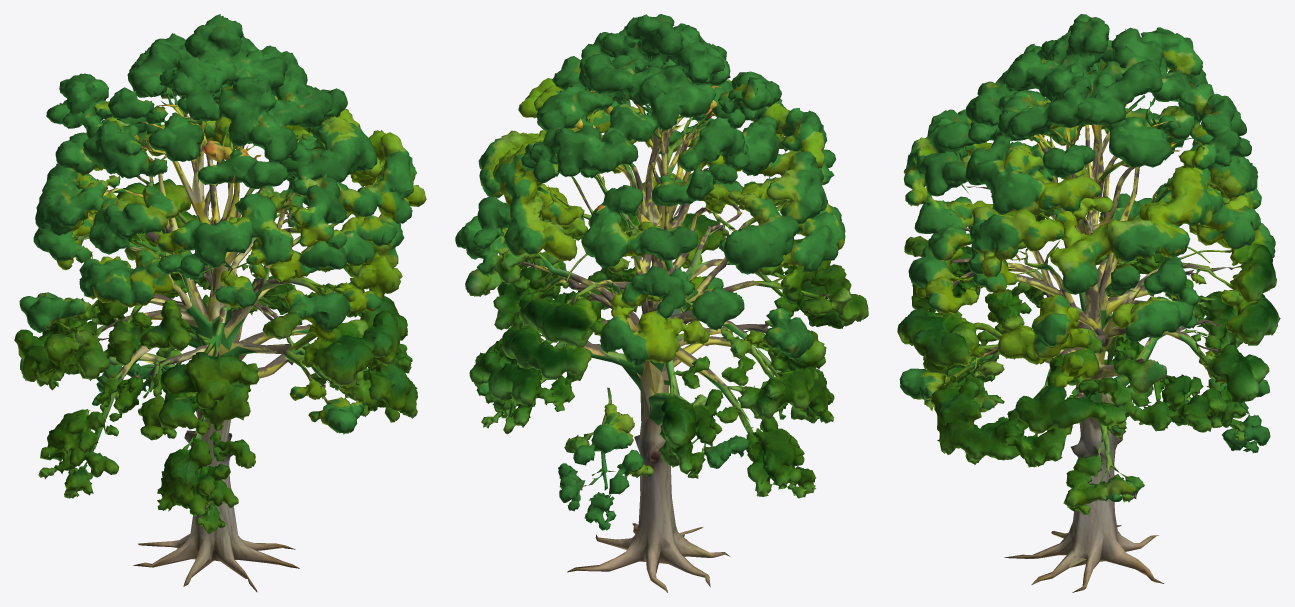
File: fluted-european-hornbeam-r2_semantic.glb
3 renders of one model, left to right at view 1: azimuth 30°, elevation 25°; view 2: azimuth 150°, elevation 25°; view 3: azimuth 270°, elevation 25°, orthographic.
Visible parts, largest first — view 1: Mesh_0; view 2: Mesh_0; view 3: Mesh_0.
Part boxes in pixels (bbox=[...]): Mesh_0: bbox=[14, 14, 426, 592]; Mesh_0: bbox=[455, 14, 868, 592]; Mesh_0: bbox=[897, 14, 1280, 592].
Bounding box in the file's own units: 10 × 15.13 × 9.7.
Materials: 2 (2 with a texture image).
